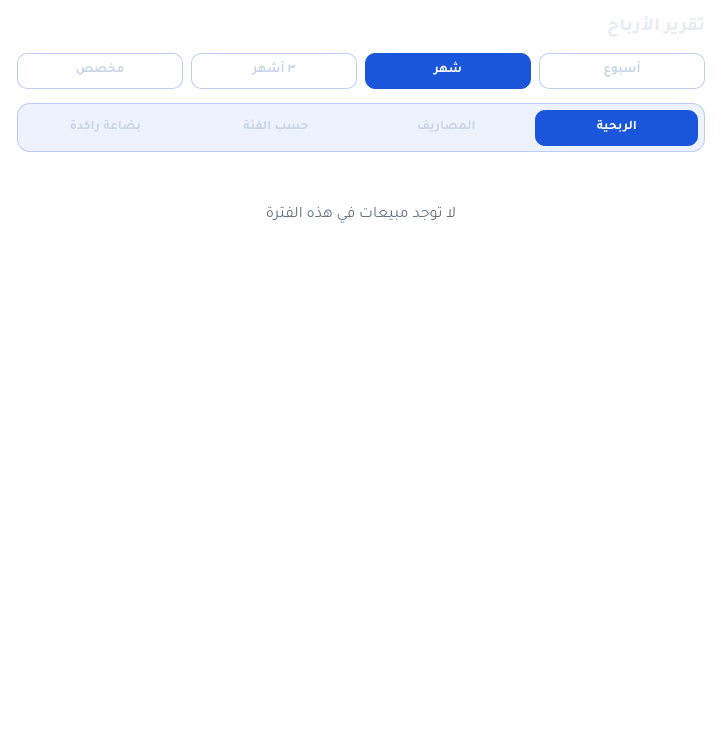
it: ReportsPage period-over-period delta › shows explanatory text when the info button is tapped
Click the button with test id "period-custom" at [100, 71], box [17,53,183,89]
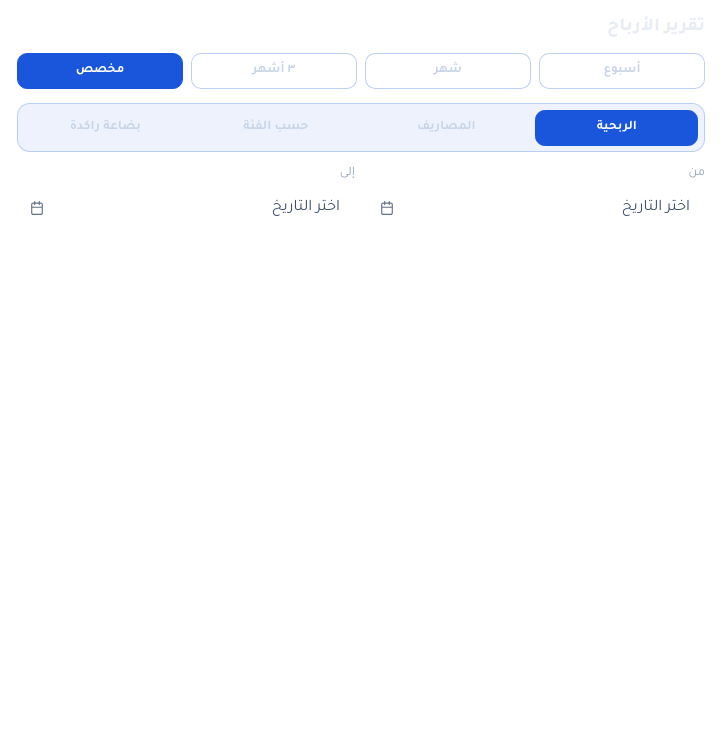
Type "2026-06-01" into the dropdown with id "reports-custom-start" at [536, 208], box [367,188,705,228]
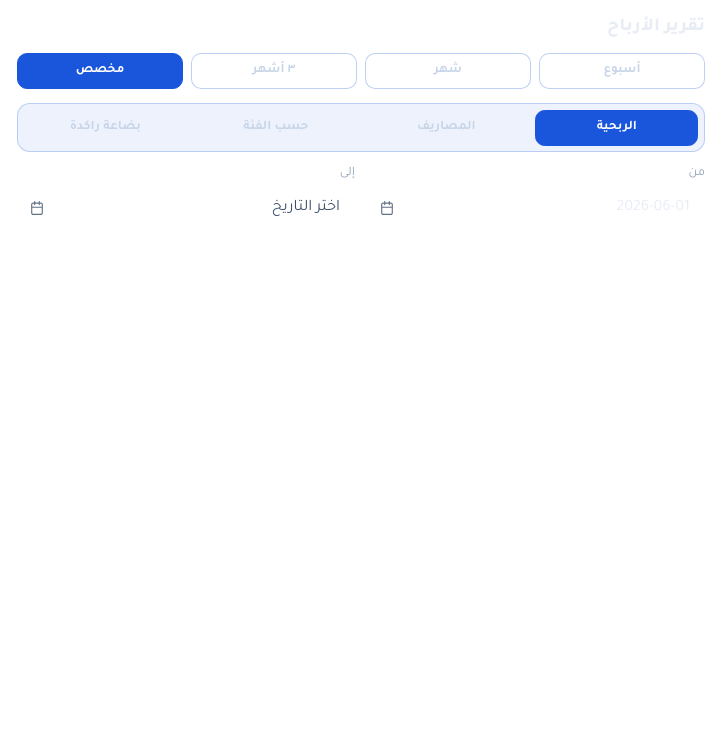
Type "2026-06-12" into the dropdown with id "reports-custom-end" at [186, 208], box [17,188,355,228]
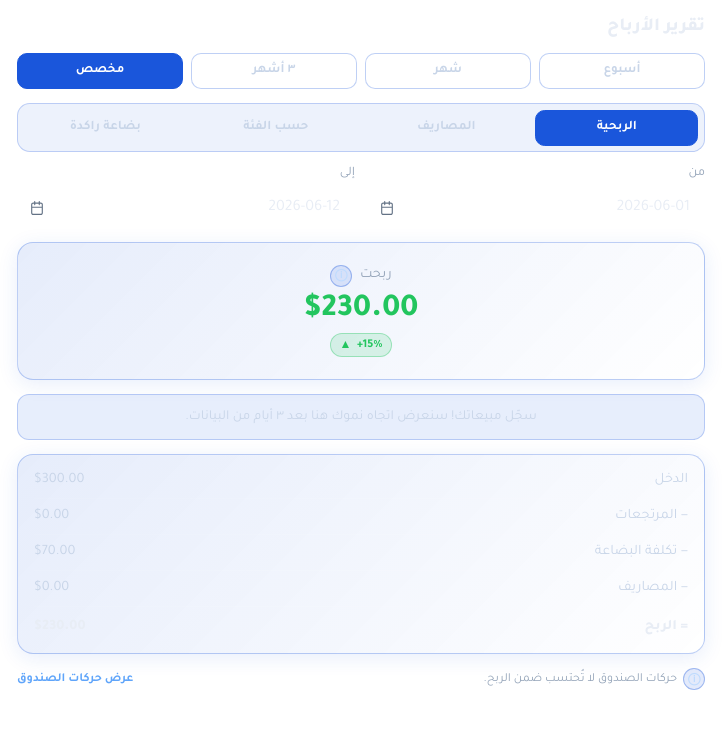
Click the button with test id "profit-info" at [341, 276], box [330,265,352,287]
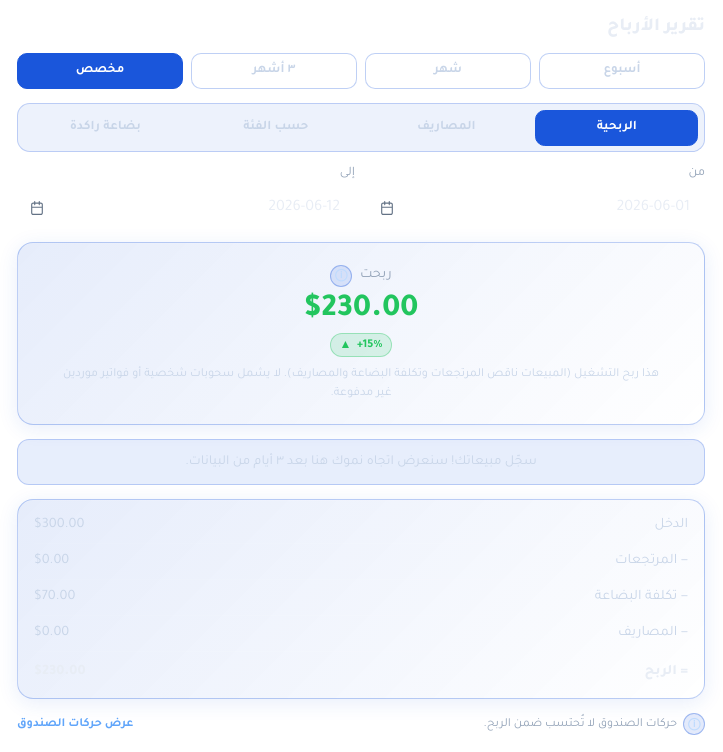
Now the text with test id "profit-info-text" shows "هذا ربح التشغيل", box [63,368,659,399]
